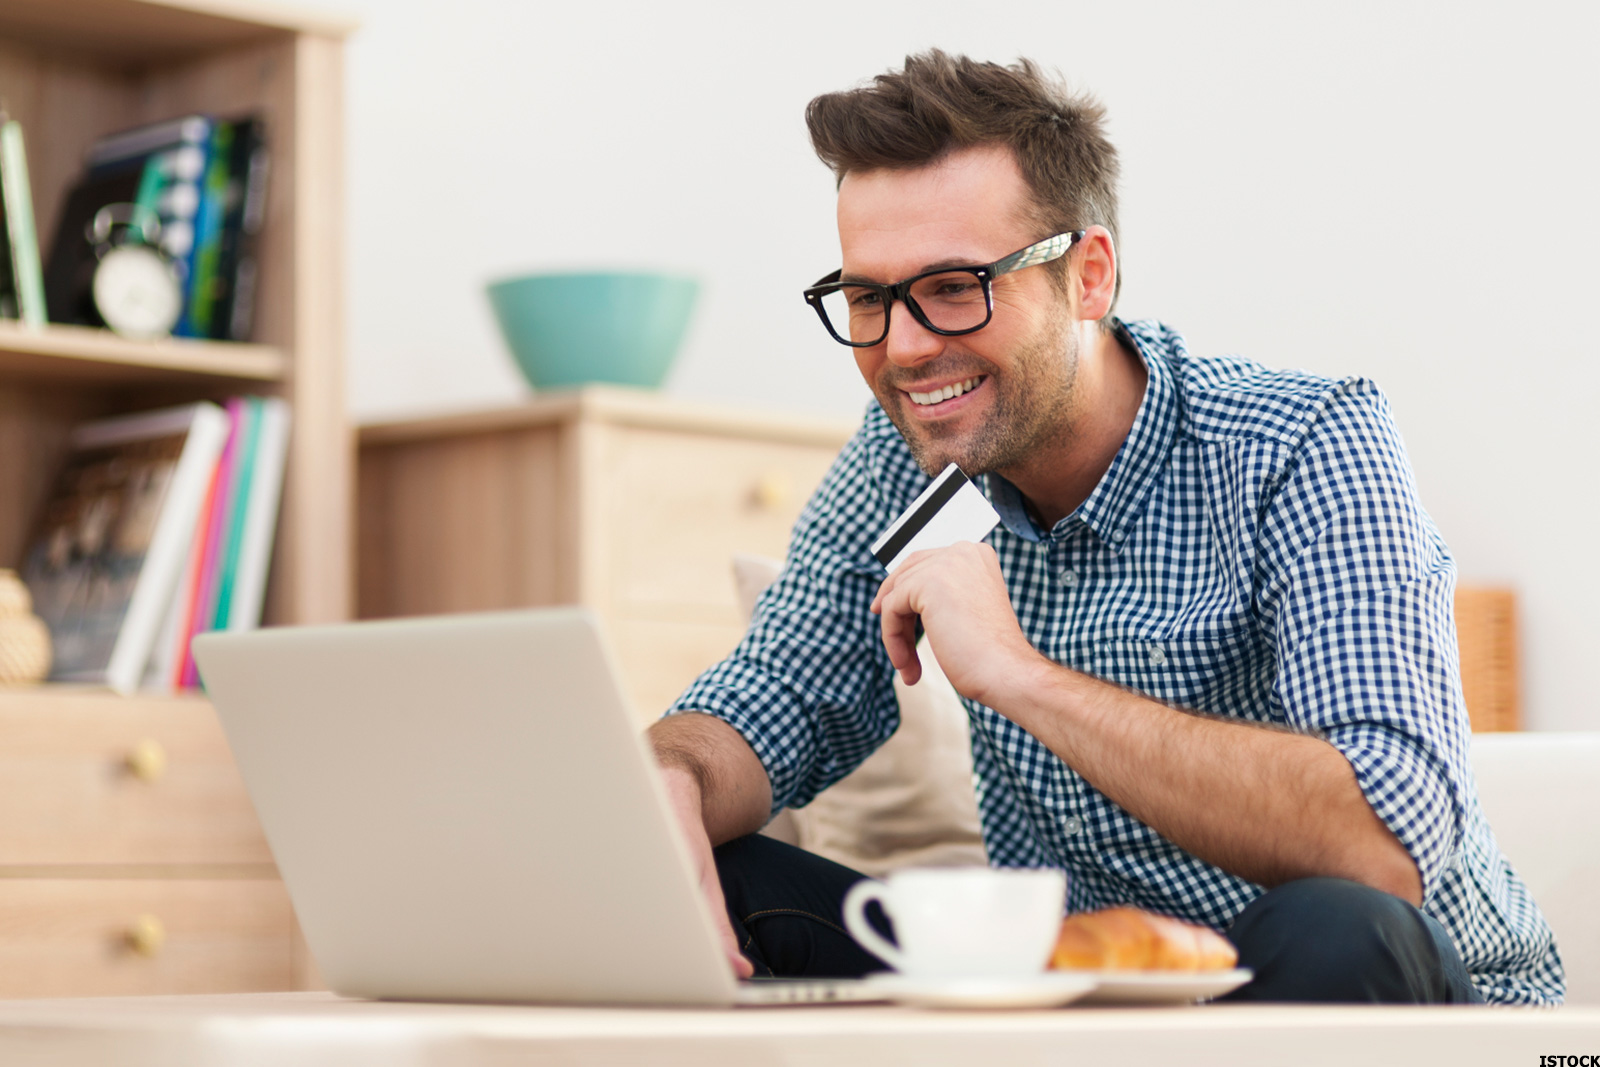tarjeta: (865, 458, 1006, 576)
